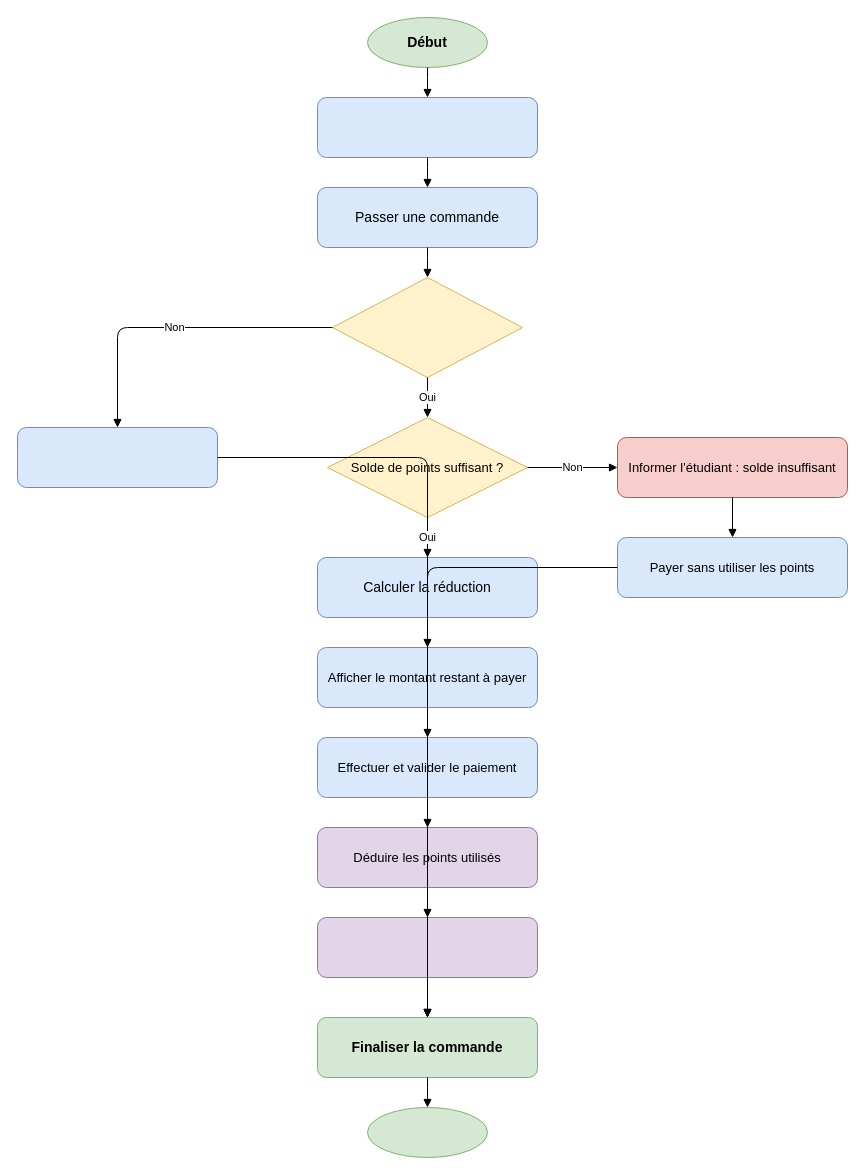
Image size: 865x1175. Some labels were removed from this diagram. Here are the shapes that lost their labels. From the top down, the box of each, then its label:
(316, 96, 538, 158): Consulter le solde des points
(332, 276, 522, 378): Souhaite utiliser ses points ?
(16, 426, 218, 488): Payer le montant total
(316, 916, 538, 978): Mettre à jour le solde et l'historique
(366, 1106, 488, 1158): Fin
